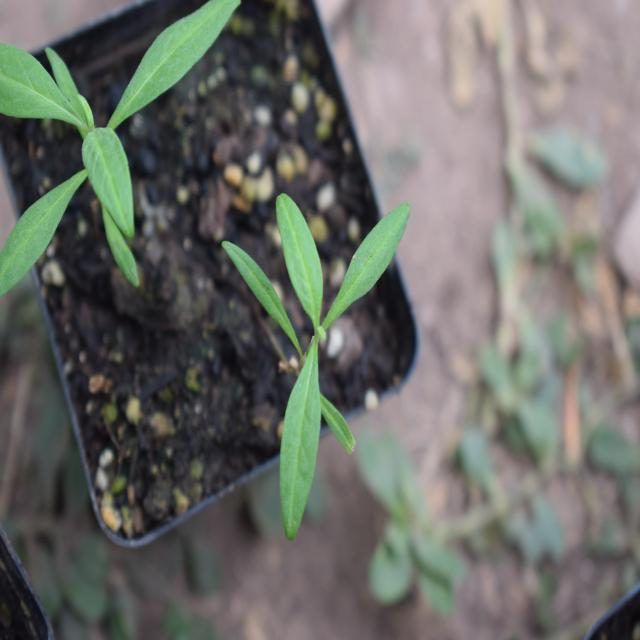white_smart_weed: (206, 148, 425, 552), (0, 26, 250, 306)
